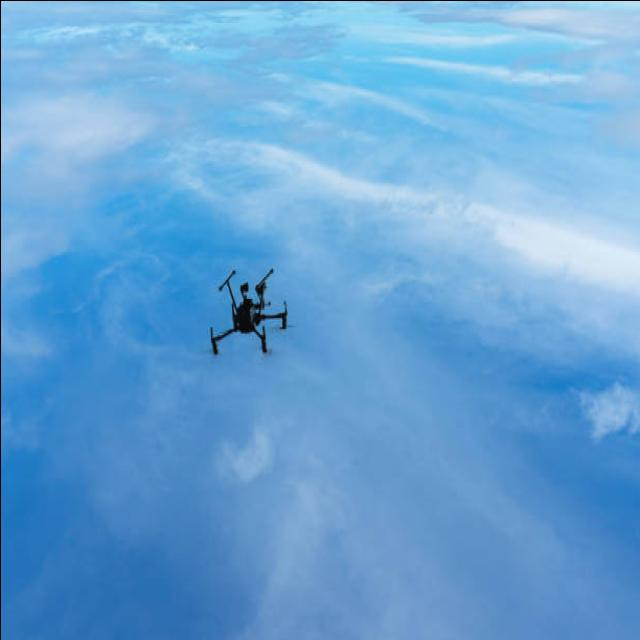drone: (209, 266, 293, 358)
